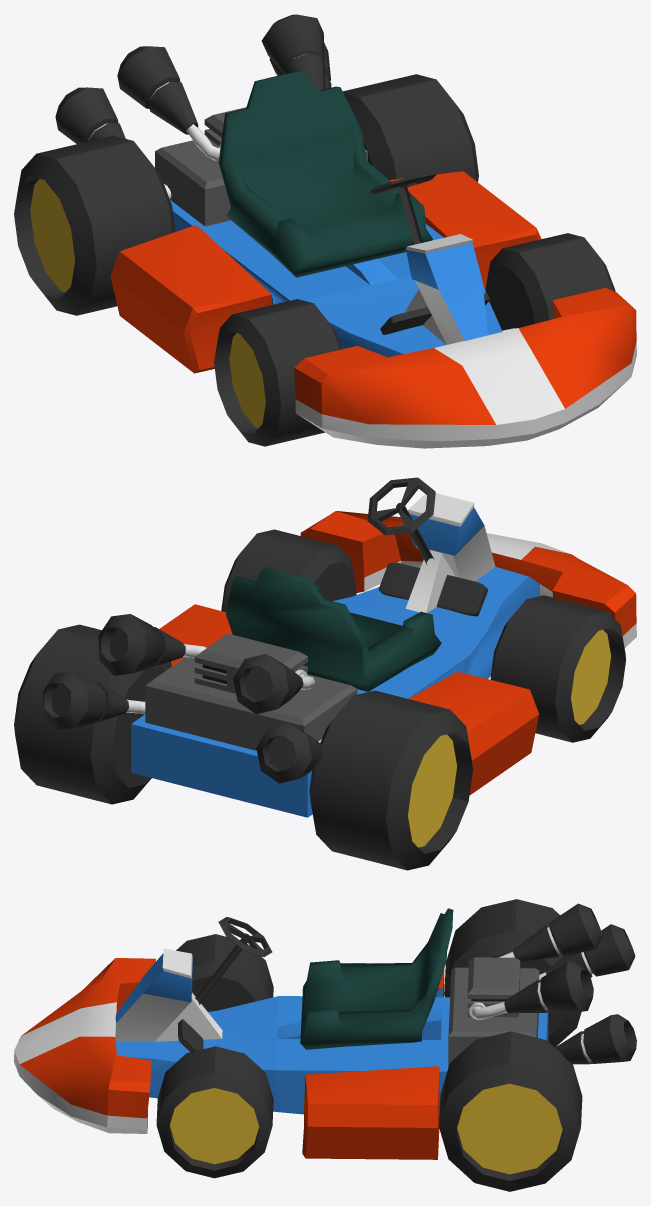
Rendered from kart.glb.
3 renders of one model, top to bottom at view 1: azimuth 30°, elevation 25°; view 2: azimuth 150°, elevation 25°; view 3: azimuth 270°, elevation 25°, orthographic. The views are drawn at different scales.
Visible parts, largest first — view 1: Cube, Cube.001, Cylinder.003, Cylinder.002, Cylinder.001, Cylinder, Cylinder.010, Cylinder.008, Cylinder.011, Cube.002; view 2: Cube, Cylinder.003, Cylinder.001, Cube.001, Cylinder.002, Cylinder, Cylinder.008, Cylinder.009, Cylinder.010, Cylinder.011, Cube.002, Cylinder.007; view 3: Cube, Cylinder.001, Cylinder, Cube.001, Cylinder.003, Cylinder.002, Cylinder.008, Cylinder.010, Cylinder.009, Cylinder.011, Cylinder.007, Cylinder.006 (+1 smaller).
Part boxes in pixels (bbox=[...]): Cube: bbox=[110, 107, 636, 448]; Cube.001: bbox=[218, 70, 432, 277]; Cylinder.003: bbox=[14, 135, 175, 315]; Cylinder.002: bbox=[214, 299, 341, 446]; Cylinder.001: bbox=[343, 74, 478, 182]; Cylinder: bbox=[485, 233, 615, 330]; Cylinder.010: bbox=[117, 46, 220, 160]; Cylinder.008: bbox=[261, 14, 325, 90]; Cylinder.011: bbox=[55, 87, 171, 199]; Cube.002: bbox=[380, 293, 489, 334]; Cube: bbox=[131, 493, 636, 817]; Cylinder.003: bbox=[309, 690, 472, 870]; Cylinder.001: bbox=[14, 624, 171, 804]; Cube.001: bbox=[226, 567, 441, 691]; Cylinder.002: bbox=[490, 595, 625, 742]; Cylinder: bbox=[221, 529, 356, 612]; Cylinder.008: bbox=[98, 614, 206, 675]; Cylinder.009: bbox=[43, 671, 145, 729]; Cylinder.010: bbox=[233, 654, 315, 714]; Cylinder.011: bbox=[256, 723, 321, 783]; Cube.002: bbox=[378, 562, 488, 616]; Cylinder.007: bbox=[367, 477, 435, 535]; Cube: bbox=[14, 948, 548, 1159]; Cylinder.001: bbox=[439, 1031, 582, 1191]; Cylinder: bbox=[156, 1046, 273, 1178]; Cube.001: bbox=[300, 908, 453, 1049]; Cylinder.003: bbox=[444, 899, 581, 1047]; Cylinder.002: bbox=[176, 934, 273, 1011]; Cylinder.008: bbox=[469, 961, 593, 1019]; Cylinder.010: bbox=[498, 903, 602, 961]; Cylinder.009: bbox=[555, 1014, 636, 1064]; Cylinder.011: bbox=[539, 924, 635, 979]; Cylinder.007: bbox=[218, 917, 272, 956]; Cylinder.006: bbox=[195, 933, 249, 1004].
Size of the model in its own units: 224 by 122 by 354.
